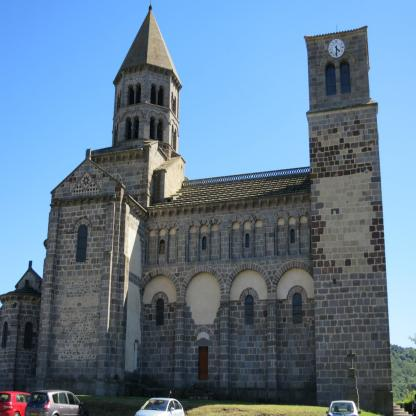Car: (27, 390, 92, 416), (135, 394, 185, 416), (2, 392, 38, 416), (326, 402, 361, 416)
